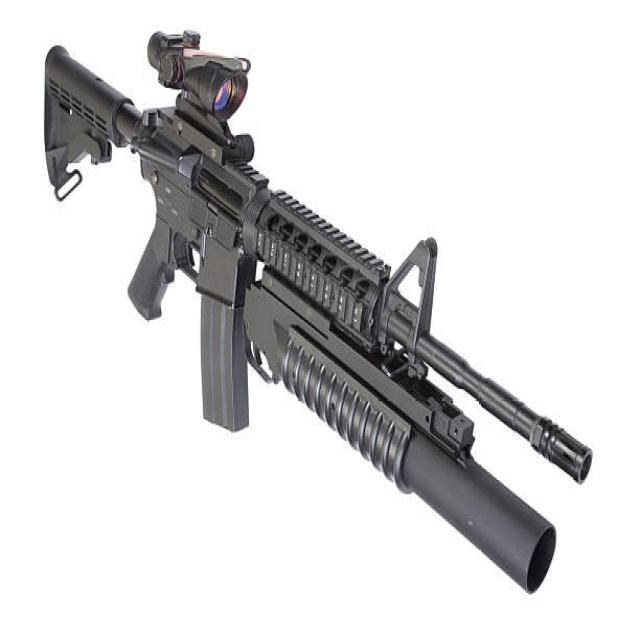rifle: (31, 12, 598, 609)
